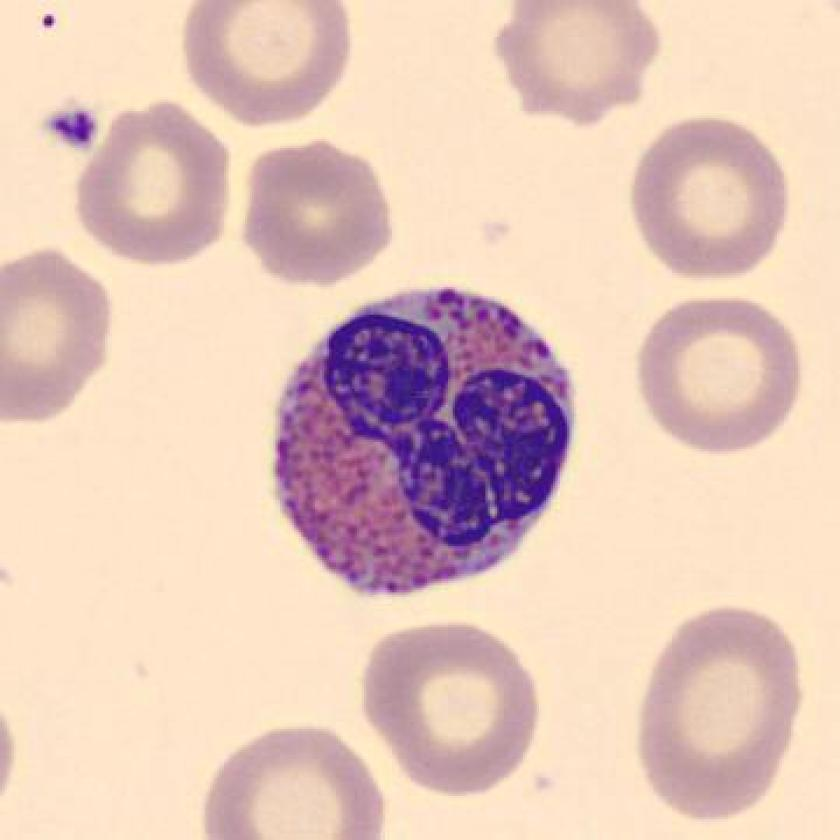eosinophil: (258, 263, 589, 608)
